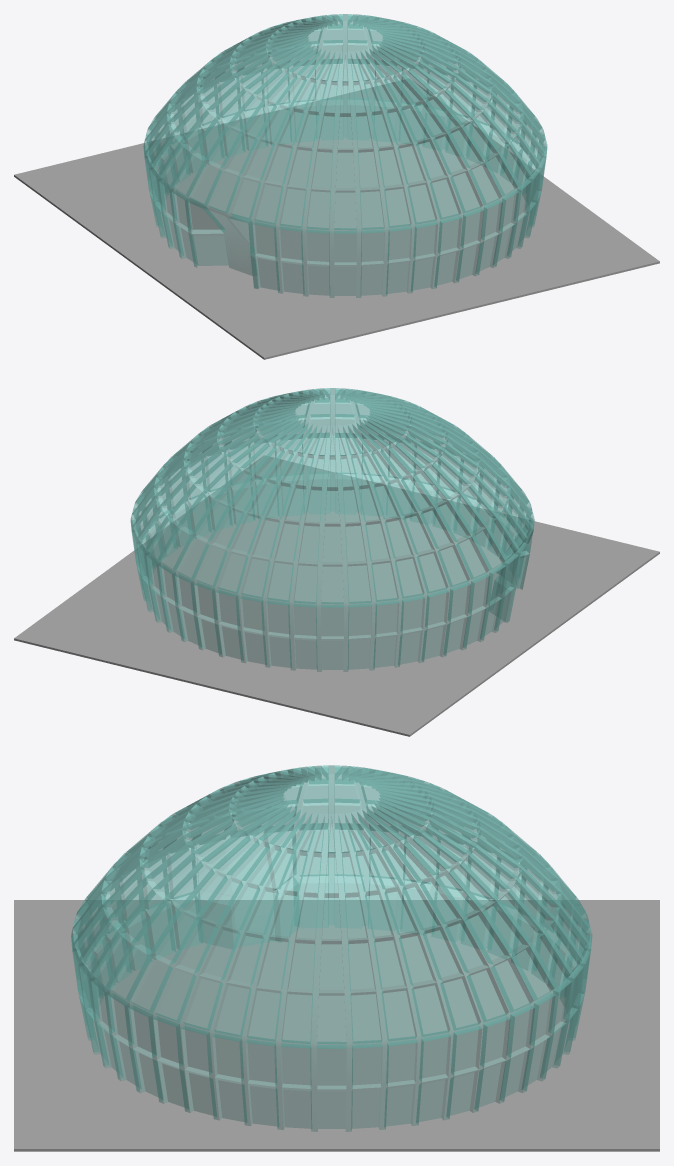
The model's file is Biodome.fbx.
3 views of the same model, one above another, from view 1: azimuth 30°, elevation 25°; view 2: azimuth 150°, elevation 25°; view 3: azimuth 270°, elevation 25° (orthographic). The views are drawn at different scales.
Parts seen in each view (by area): view 1: pCube1, polySurface1; view 2: pCube1, polySurface1; view 3: pCube1, polySurface1.
Boxes of the visible parts, x1,y1,x2,y2 form: pCube1: (14, 78, 659, 359); polySurface1: (143, 14, 547, 297); pCube1: (14, 455, 659, 736); polySurface1: (130, 388, 534, 671); pCube1: (14, 900, 659, 1151); polySurface1: (71, 765, 592, 1131).
Size of the model in its own units: 9.23 by 4.09 by 10.11.
